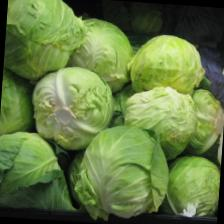cabbage: (71, 120, 173, 224), (28, 62, 118, 154), (2, 0, 88, 82), (0, 129, 76, 213), (121, 82, 200, 162), (63, 15, 136, 98), (124, 30, 206, 97), (159, 153, 221, 220)
